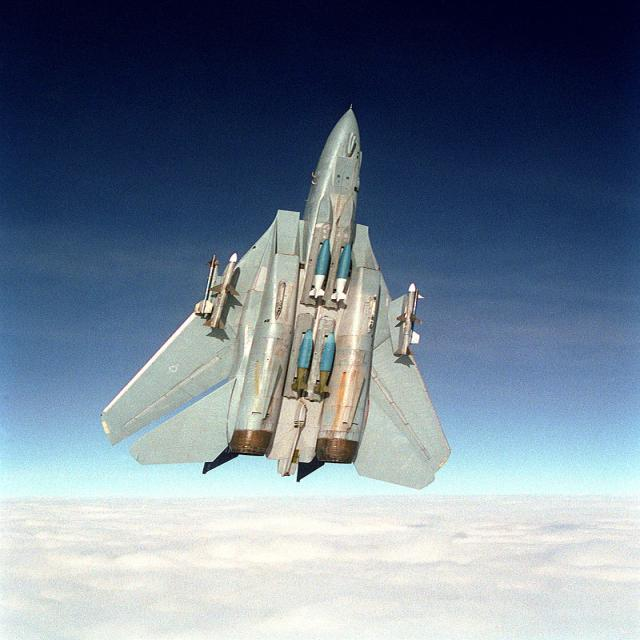MIL_Plane: (99, 101, 451, 491)
